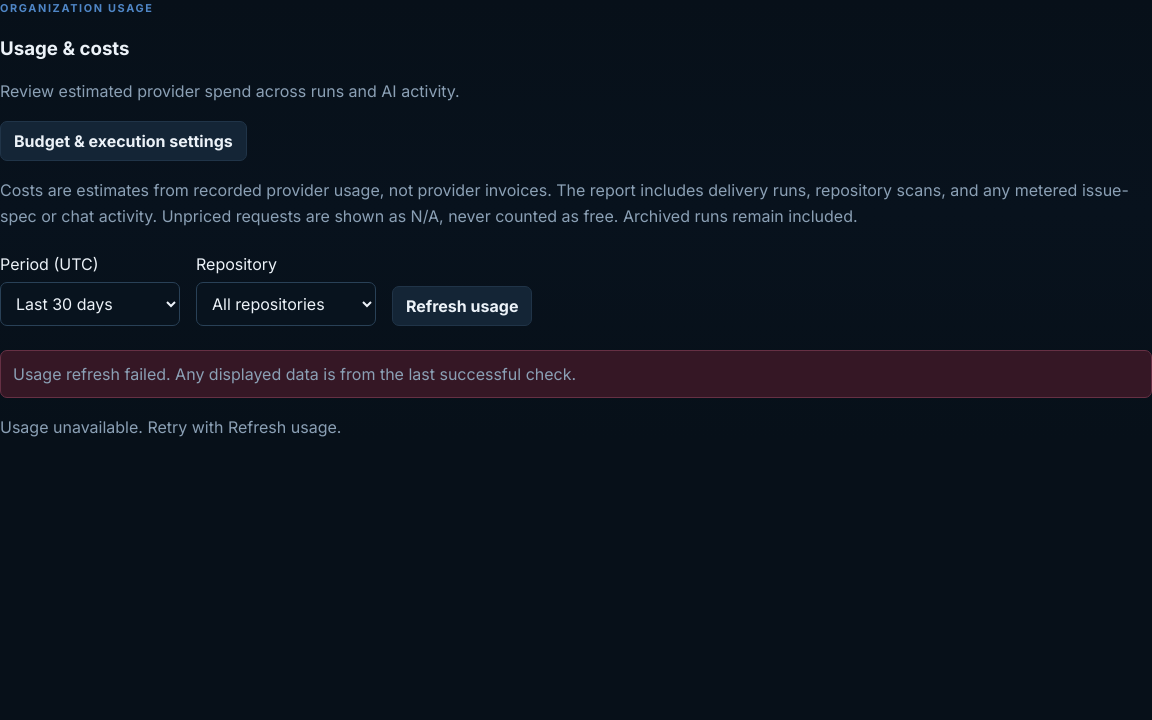
Scenario: shows a retry action after a failed load
The image size is (1152, 720).
Expected: the message "Usage refresh failed. Any displayed data is from the last successful check." is shown, [0, 350, 1151, 398]
What coordinates should you click on to do the following:
click the button "Refresh usage"
I would click on:
 (462, 306)
Its box is [392, 286, 532, 326].
(page scrolled)
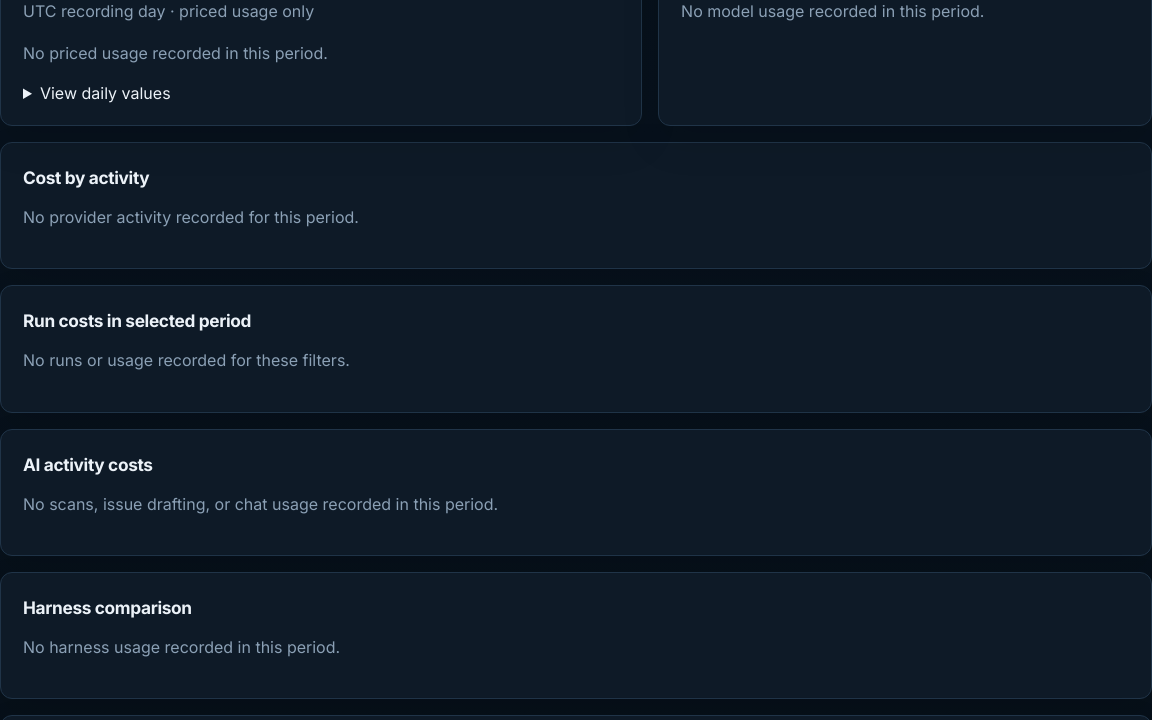
Now the text "No runs or usage recorded for these filters." is shown, box [23, 350, 350, 370]
